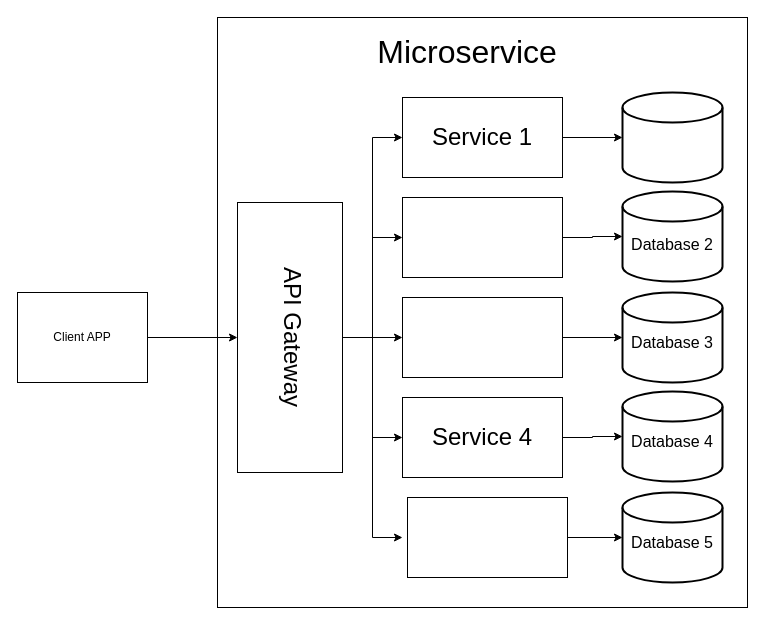
Some shapes in this 765 by 625 pixel diagram are drawn without their labels. Here are the shapes that lost their labels. From the top down, the centre of each, then its label:
point (672, 137): Database 1
point (482, 237): Service 2
point (482, 337): Service 3
point (487, 537): Service 5
